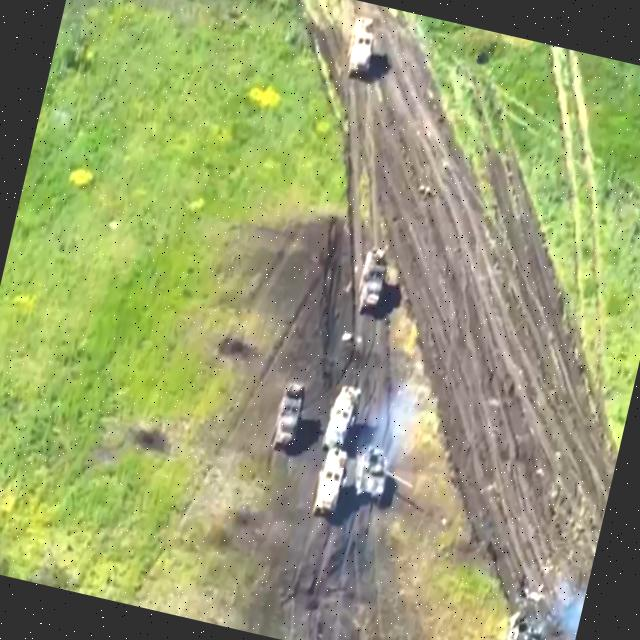MBT: (348, 442, 422, 512), (498, 606, 570, 640)
Vehicle: (351, 242, 394, 321), (268, 379, 311, 458), (320, 382, 366, 453), (312, 447, 352, 521), (343, 15, 383, 83)
